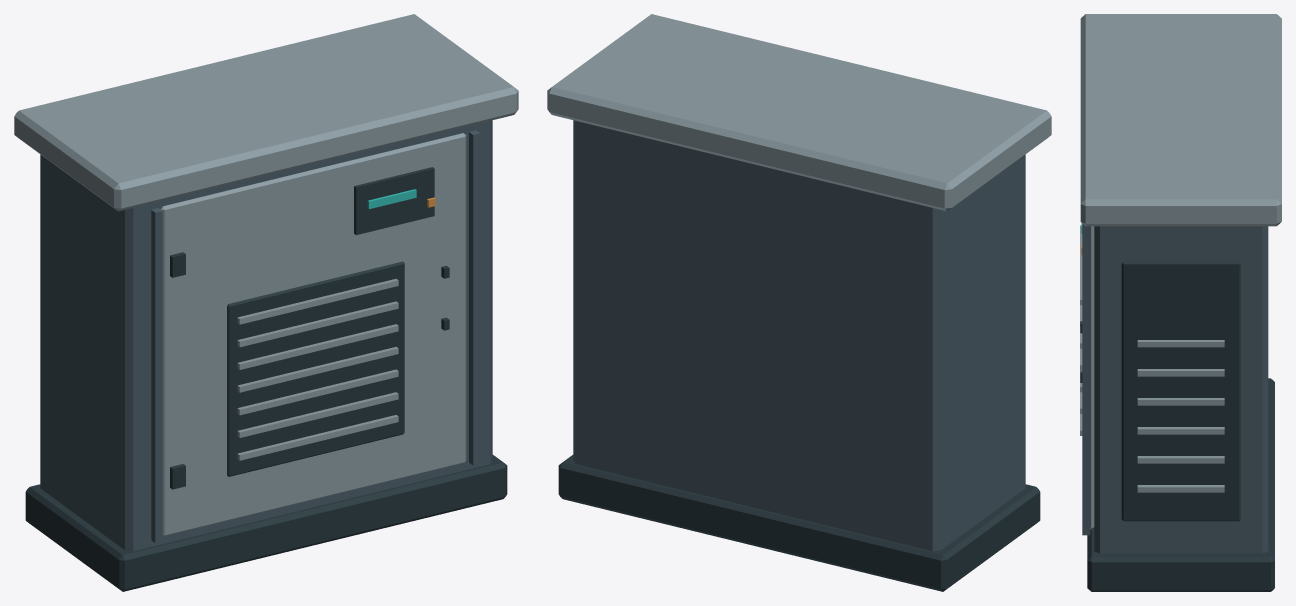
File: 0-20261016-1900-ev047-r08-floor5-coolingunit.fbx
3 renders of one model, left to right at view 1: azimuth 30°, elevation 25°; view 2: azimuth 150°, elevation 25°; view 3: azimuth 270°, elevation 25°, orthographic. The views are drawn at different scales.
Visible parts, largest first — view 1: SW_Ops_CoolingUnit; view 2: SW_Ops_CoolingUnit; view 3: SW_Ops_CoolingUnit.
Boxes of the visible parts, box(x1,y1,x2,y2) form: SW_Ops_CoolingUnit: box(14, 14, 518, 591); SW_Ops_CoolingUnit: box(547, 14, 1051, 591); SW_Ops_CoolingUnit: box(1080, 14, 1281, 591).
Bounding box in the file's own units: 196 × 191 × 88.2.
